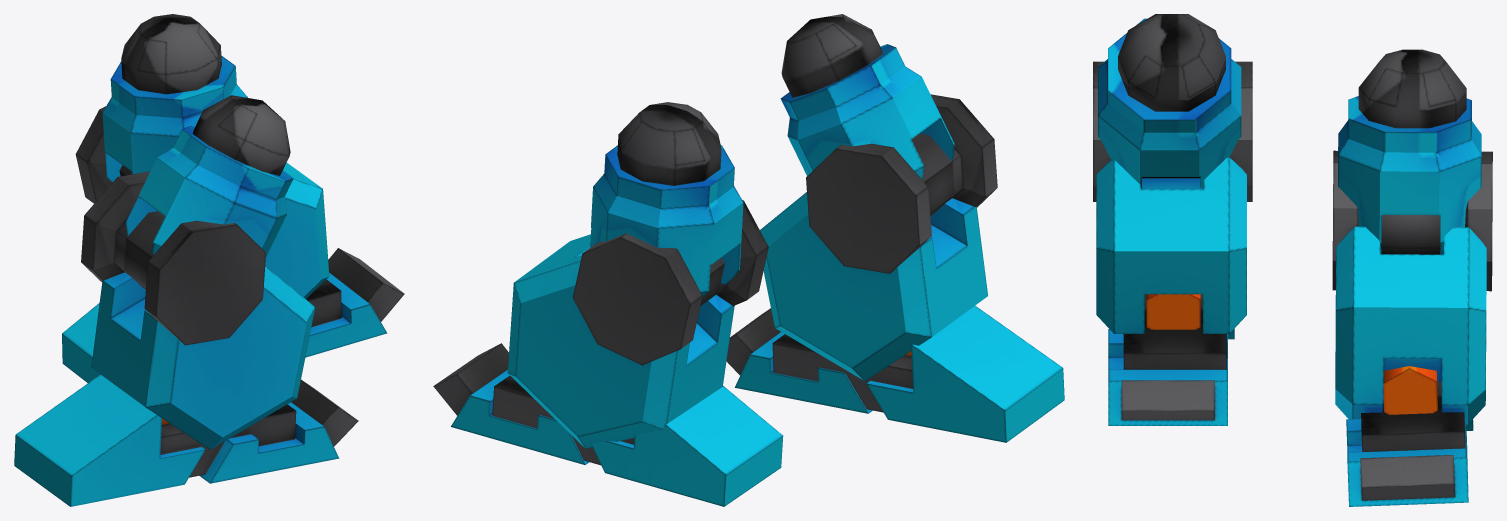
The model's file is Bottom_Idle32.obj.
The picture shows the model from 3 angles, left to right: view 1: azimuth 30°, elevation 25°; view 2: azimuth 150°, elevation 25°; view 3: azimuth 270°, elevation 25°; orthographic projection. The views are drawn at different scales.
Visible parts, largest first — view 1: Object013, Object014, Object012, Object009, Object011, Object010; view 2: Object013, Object010, Object014, Object011, Object009, Object012; view 3: Object010, Object013, Object009, Object012, Object011, Object014.
Boxes of the visible parts, x1,y1,x2,y2 form: Object013: (81, 171, 315, 449); Object014: (14, 374, 358, 506); Object012: (126, 95, 293, 257); Object009: (102, 14, 247, 182); Object011: (62, 248, 404, 382); Object010: (75, 106, 329, 298); Object013: (760, 94, 997, 381); Object010: (507, 200, 768, 448); Object014: (726, 305, 1064, 442); Object011: (433, 343, 783, 506); Object009: (590, 102, 743, 297); Object012: (780, 14, 954, 179); Object010: (1332, 150, 1492, 424); Object013: (1093, 61, 1252, 333); Object009: (1338, 49, 1481, 254); Object012: (1098, 14, 1241, 188); Object011: (1346, 366, 1473, 506); Object014: (1108, 294, 1234, 425).
Size of the model in its own units: 130 by 100 by 94.65.
